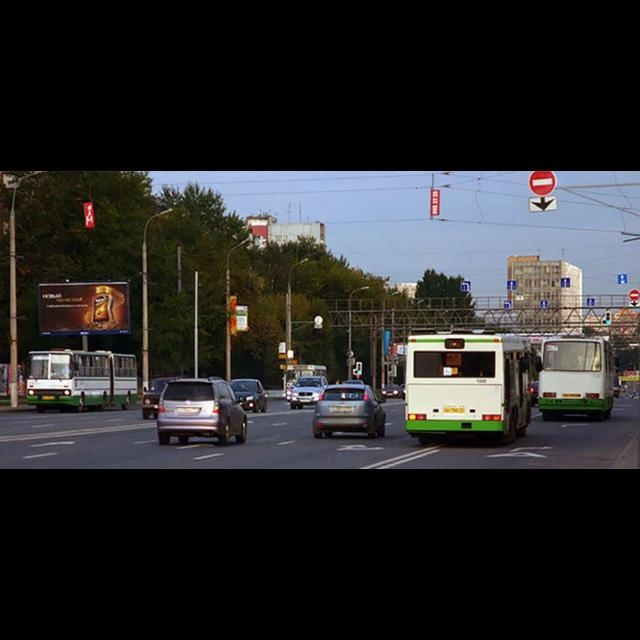road: (0, 398, 639, 469)
